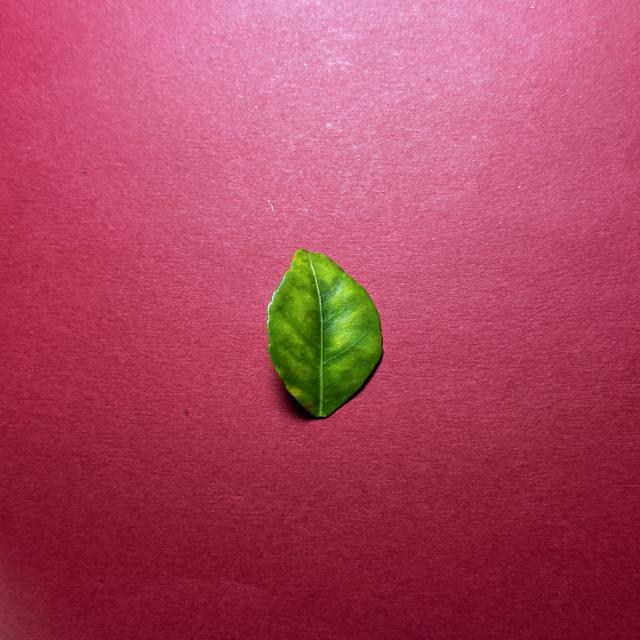greening: (267, 249, 382, 417)
